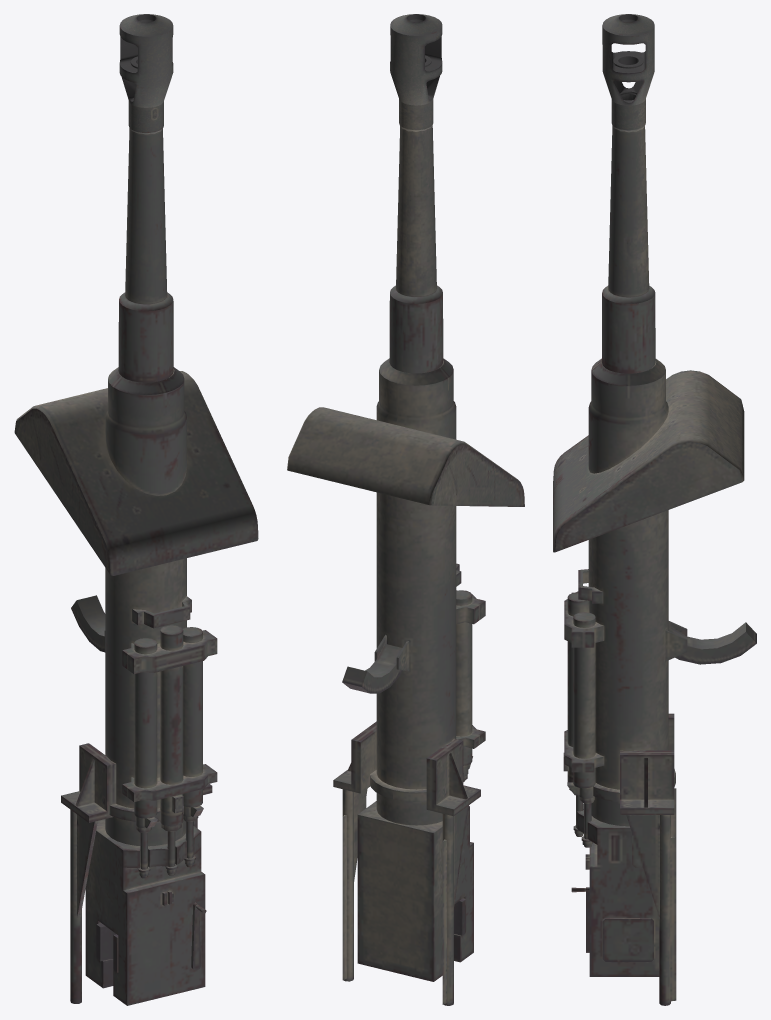
The model's file is Gun_01.glb.
The picture shows the model from 3 angles, left to right: view 1: azimuth 30°, elevation 25°; view 2: azimuth 150°, elevation 25°; view 3: azimuth 270°, elevation 25°; orthographic projection. The views are drawn at different scales.
Parts seen in each view (by area): view 1: set_0_group_0; view 2: set_0_group_0; view 3: set_0_group_0.
Boxes of the visible parts, x1,y1,x2,y2 form: set_0_group_0: (14,14,258,1005); set_0_group_0: (287,14,524,1005); set_0_group_0: (553,14,756,1005).
Bounding box in the file's own units: 0.926 × 5.88 × 1.13.
Materials: 1 (1 with a texture image).
